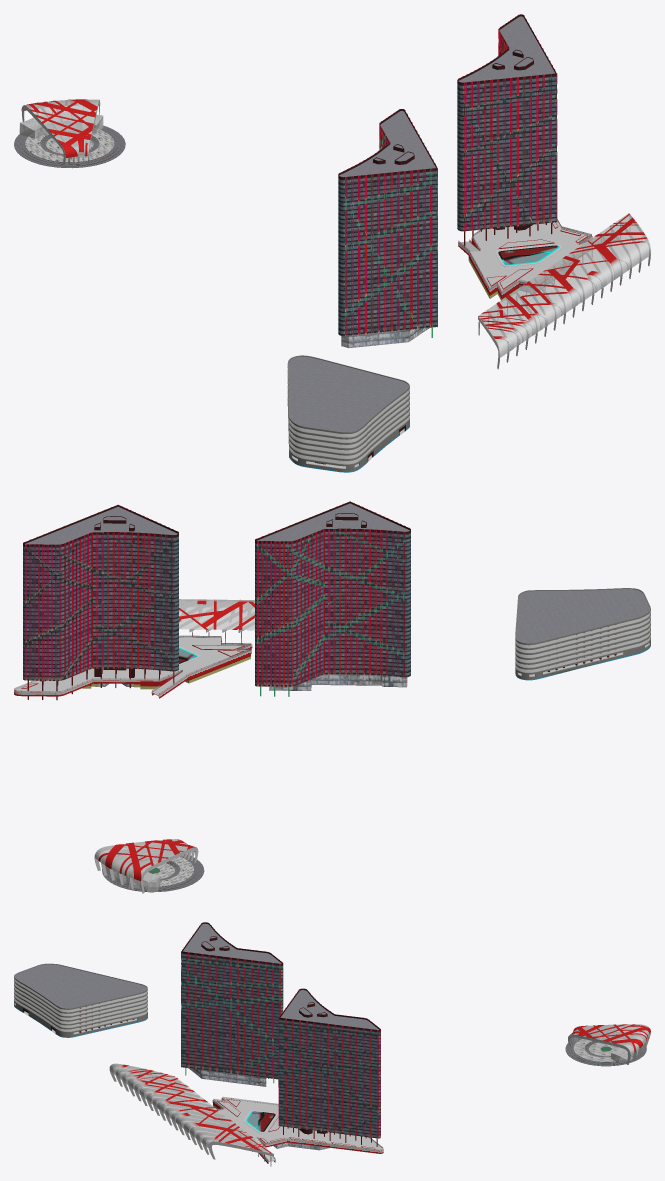
The model's file is MODEL_HUB.FBX.
The picture shows the model from 3 angles, top to bottom: view 1: azimuth 30°, elevation 25°; view 2: azimuth 150°, elevation 25°; view 3: azimuth 270°, elevation 25°; orthographic projection. The views are drawn at different scales.
Parts seen in each view (by area): view 1: SM_Building_Tower_002, SM_Building_Tower_001, SM_NZ_Shed, SM_NZ_ParkingBuilding007, SM_Imposts_White_002, SM_NZ_Pavilion, SM_Imposts_White_001, SM_Stilobat_001, SM_Roof_001, SM_Roof_002, SM_Stilobat_ChildArea_001, SM_GroundFloor_001 (+10 smaller); view 2: SM_Building_Tower_002, SM_Building_Tower_001, SM_Imposts_White_002, SM_Imposts_White_001, SM_NZ_ParkingBuilding007, SM_NZ_Pavilion, SM_Stilobat_001, SM_NZ_Shed, SM_Roof_001, SM_Roof_002, SM_GroundFloor_001, SM_Stilobat_Cornice_001 (+13 smaller); view 3: SM_Building_Tower_002, SM_Building_Tower_001, SM_NZ_Shed, SM_NZ_ParkingBuilding007, SM_Imposts_White_002, SM_Imposts_White_001, SM_NZ_Pavilion, SM_Stilobat_001, SM_Roof_002, SM_Roof_001, SM_NZ_ParkingBuilding, SM_GroundFloor_001 (+14 smaller).
Boxes of the visible parts, x1,y1,x2,y2 form: SM_Building_Tower_002: [338, 128, 437, 336]; SM_Building_Tower_001: [457, 34, 556, 231]; SM_NZ_Shed: [478, 213, 650, 369]; SM_NZ_ParkingBuilding007: [287, 355, 409, 433]; SM_Imposts_White_002: [339, 109, 437, 336]; SM_NZ_Pavilion: [14, 99, 125, 168]; SM_Imposts_White_001: [458, 14, 557, 231]; SM_Stilobat_001: [470, 222, 589, 291]; SM_Roof_001: [458, 16, 555, 82]; SM_Roof_002: [339, 111, 435, 177]; SM_Stilobat_ChildArea_001: [495, 244, 562, 266]; SM_GroundFloor_001: [341, 327, 429, 348]; SM_Building_Tower_002: [255, 530, 410, 686]; SM_Building_Tower_001: [23, 534, 178, 680]; SM_Imposts_White_002: [255, 503, 409, 687]; SM_Imposts_White_001: [23, 506, 177, 680]; SM_NZ_ParkingBuilding007: [515, 588, 650, 645]; SM_NZ_Pavilion: [94, 839, 204, 893]; SM_Stilobat_001: [15, 637, 247, 692]; SM_NZ_Shed: [179, 599, 254, 643]; SM_Roof_001: [25, 506, 177, 544]; SM_Roof_002: [257, 503, 409, 541]; SM_GroundFloor_001: [269, 674, 407, 690]; SM_Stilobat_Cornice_001: [14, 637, 252, 698]; SM_Building_Tower_002: [181, 953, 282, 1079]; SM_Building_Tower_001: [279, 1019, 380, 1138]; SM_NZ_Shed: [109, 1063, 273, 1166]; SM_NZ_ParkingBuilding007: [14, 963, 147, 1009]; SM_Imposts_White_002: [181, 923, 283, 1078]; SM_Imposts_White_001: [278, 990, 380, 1138]; SM_NZ_Pavilion: [565, 1024, 650, 1066]; SM_Stilobat_001: [216, 1098, 382, 1150]; SM_Roof_002: [183, 923, 281, 963]; SM_Roof_001: [280, 990, 379, 1029]; SM_NZ_ParkingBuilding: [14, 998, 147, 1037]; SM_GroundFloor_001: [189, 1068, 266, 1086].
Bounding box in the file's own units: 300 × 103 × 463.
